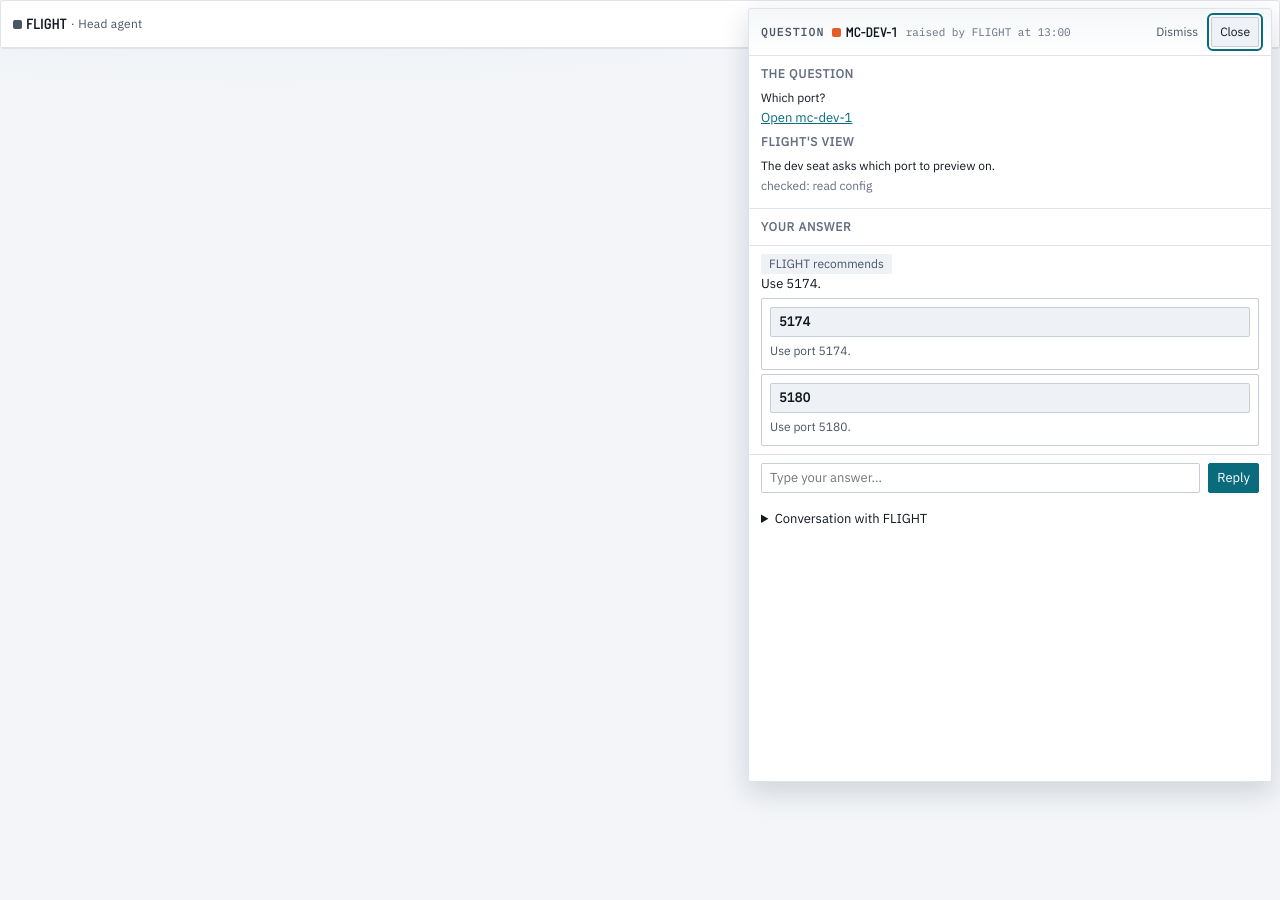
Test: ItemPanel, acting on an item › with FLIGHT stopped, a seat's item still replies and Ask FLIGHT is disabled
Click the button "5174" at (795, 322), box [770, 307, 1250, 337]
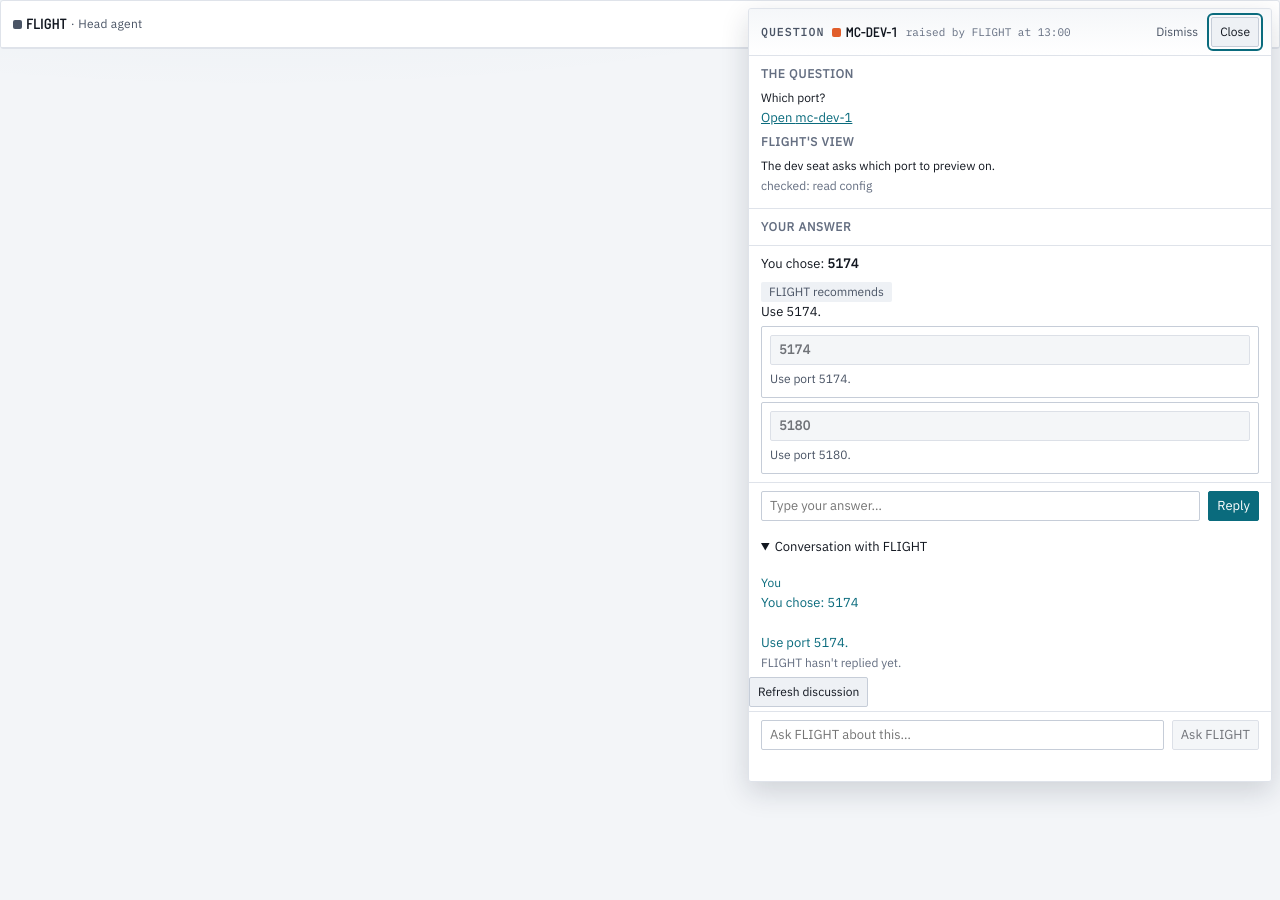
Check: the button "Ask FLIGHT" is disabled, box [1172, 720, 1259, 750]
